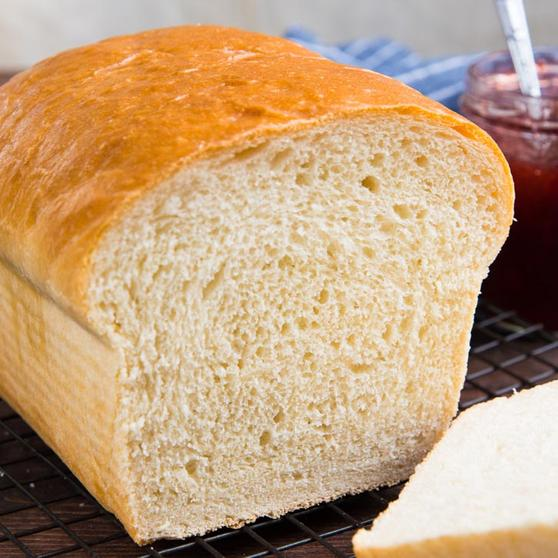white_bread: (3, 26, 508, 534)
